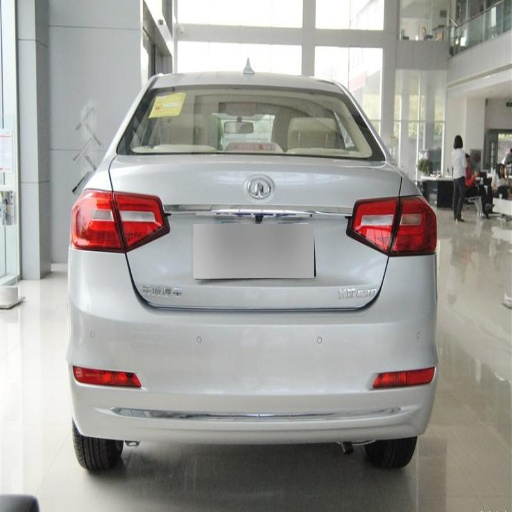back_bumper: (63, 251, 434, 458)
tailgate: (136, 158, 401, 307)
trunk: (113, 153, 343, 276)
